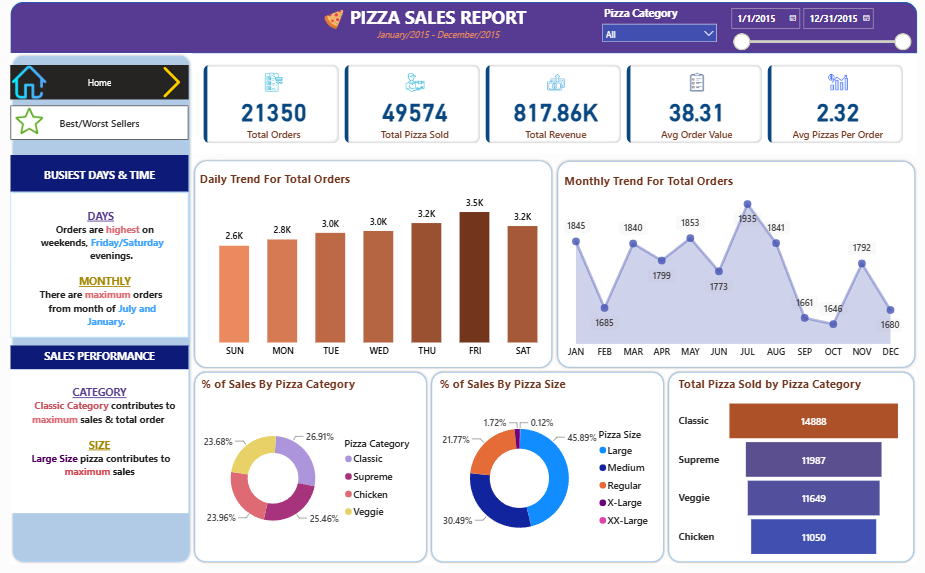

The dashboard page shown, as its layout file describes it:
{"tool":"powerbi","page":{"name":"Home","canvas":[1450,1000],"ordinal":0},"visuals":[{"type":"cardVisual","fields":{"Data":["TBL_PIZZA_SALES_DATA.Total Orders","TBL_PIZZA_SALES_DATA.Total Pizza Sold","TBL_PIZZA_SALES_DATA.Total Revenue","TBL_PIZZA_SALES_DATA.Avg Order Value","TBL_PIZZA_SALES_DATA.Avg Pizzas Per Order"]},"box":[314,92,1100,154],"z":0},{"type":"shape","box":[38,14,1376,78],"z":1000},{"type":"textbox","box":[548.3,13.3,290,50],"z":2000},{"type":"textbox","box":[590,46.7,203.3,31.7],"z":3000},{"type":"image","box":[486.7,25,85,30],"z":4000},{"type":"shape","box":[314,250,550,322],"z":5000},{"type":"columnChart","title":"Daily Trend For Total Orders","fields":{"Category":["TBL_PIZZA_SALES_DATA.Day Abbr"],"Y":["TBL_PIZZA_SALES_DATA.Total Orders"]},"box":[321.7,265,553.3,298.3],"z":6000},{"type":"shape","box":[864,246,550,326],"z":7000},{"type":"areaChart","title":"Monthly Trend For Total Orders","fields":{"Category":["TBL_PIZZA_SALES_DATA.Month Abbr"],"Y":["TBL_PIZZA_SALES_DATA.Total Orders"]},"box":[874,274,522,290],"z":8000},{"type":"shape","box":[314,572,360,296],"z":9000},{"type":"shape","box":[674,572,360,296],"z":10000},{"type":"shape","box":[1034,572,380,296],"z":11000},{"type":"donutChart","title":"% of Sales By Pizza Category","fields":{"Category":["TBL_PIZZA_SALES_DATA.pizza_category"],"Y":["TBL_PIZZA_SALES_DATA.Total Revenue"]},"box":[324,580,338,288],"z":12000},{"type":"donutChart","title":"% of Sales By Pizza Size","fields":{"Category":["TBL_PIZZA_SALES_DATA.pizza_size"],"Y":["TBL_PIZZA_SALES_DATA.Total Revenue"]},"box":[686,580,338,288],"z":13000},{"type":"funnel","title":"Total Pizza Sold by Pizza Category","fields":{"Category":["TBL_PIZZA_SALES_DATA.pizza_category"],"Y":["TBL_PIZZA_SALES_DATA.Total Pizza Sold"]},"box":[1048,580,348,288],"z":14000},{"type":"shape","box":[38,92,276,776],"z":15000},{"type":"textbox","box":[38,246,270,55],"z":16000},{"type":"textbox","box":[38,302,270,220],"z":17000},{"type":"textbox","box":[38,536,270,36],"z":18000},{"type":"textbox","box":[38,572,270,218],"z":19000},{"type":"slicer","fields":{"Values":["TBL_PIZZA_SALES_DATA.pizza_category"]},"box":[926,14,194,78],"z":20000},{"type":"slicer","fields":{"Values":["TBL_PIZZA_SALES_DATA.order_date"]},"box":[1120,14,294,78],"z":21000},{"type":"pageNavigator","box":[38,110,270,52],"z":22000},{"type":"pageNavigator","box":[38,170,270,52],"z":23000},{"type":"image","box":[260,110,48,52],"z":24000},{"type":"image","box":[42,174,52,42],"z":25000},{"type":"image","box":[42,110,52,52],"z":26000}]}

Visuals, with their boxes on the page's 1450x1000 design canvas (x1, y1, x2, y2). These are canvas units, not pixel positions in the 925x573 screenshot, which may show the page scaled, cropped or inside an application window:
cardVisual - TBL_PIZZA_SALES_DATA.Total Orders x TBL_PIZZA_SALES_DATA.Total Pizza Sold: l=314, t=92, r=1414, b=246
shape: l=38, t=14, r=1414, b=92
textbox: l=548, t=13, r=838, b=63
textbox: l=590, t=47, r=793, b=78
image: l=487, t=25, r=572, b=55
shape: l=314, t=250, r=864, b=572
"Daily Trend For Total Orders" columnChart: l=322, t=265, r=875, b=563
shape: l=864, t=246, r=1414, b=572
"Monthly Trend For Total Orders" areaChart: l=874, t=274, r=1396, b=564
shape: l=314, t=572, r=674, b=868
shape: l=674, t=572, r=1034, b=868
shape: l=1034, t=572, r=1414, b=868
"% of Sales By Pizza Category" donutChart: l=324, t=580, r=662, b=868
"% of Sales By Pizza Size" donutChart: l=686, t=580, r=1024, b=868
"Total Pizza Sold by Pizza Category" funnel: l=1048, t=580, r=1396, b=868
shape: l=38, t=92, r=314, b=868
textbox: l=38, t=246, r=308, b=301
textbox: l=38, t=302, r=308, b=522
textbox: l=38, t=536, r=308, b=572
textbox: l=38, t=572, r=308, b=790
slicer - TBL_PIZZA_SALES_DATA.pizza_category: l=926, t=14, r=1120, b=92
slicer - TBL_PIZZA_SALES_DATA.order_date: l=1120, t=14, r=1414, b=92
pageNavigator: l=38, t=110, r=308, b=162
pageNavigator: l=38, t=170, r=308, b=222
image: l=260, t=110, r=308, b=162
image: l=42, t=174, r=94, b=216
image: l=42, t=110, r=94, b=162
